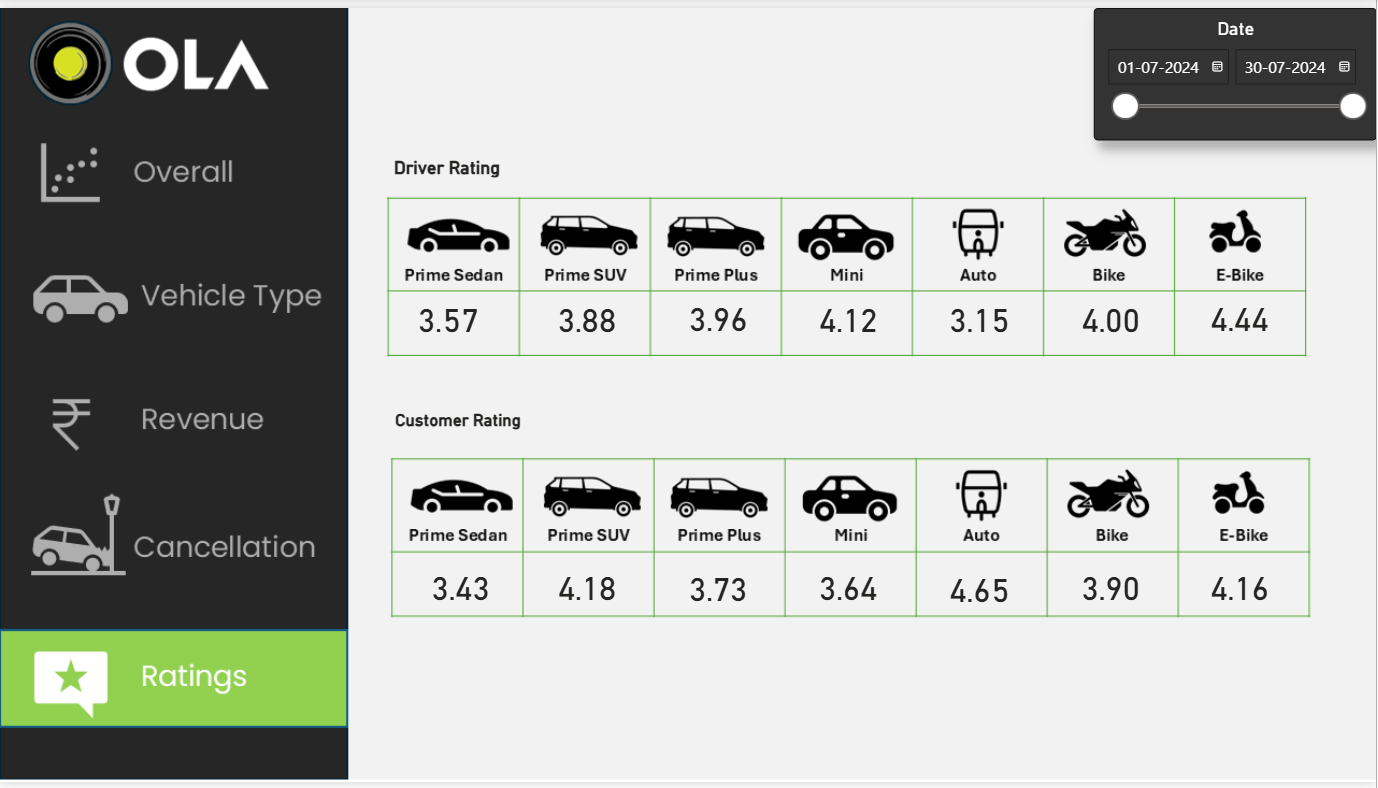

The page's visual inventory and layout, read from the dashboard file:
{"tool":"powerbi","page":{"name":"Rating","canvas":[1280,720],"ordinal":4},"visuals":[{"type":"actionButton","box":[0,104.3,320.2,92],"z":0},{"type":"actionButton","box":[0,446.6,320.2,92],"z":1000},{"type":"actionButton","box":[0,219.6,320.2,92],"z":2000},{"type":"actionButton","box":[0,339.9,320.2,92],"z":3000},{"type":"card","fields":{"Values":["Avg(Bookings-20000-Rows.Driver_Ratings)"]},"box":[361.7,266.7,111.1,45.7],"z":4000},{"type":"card","fields":{"Values":["Avg(Bookings-20000-Rows.Driver_Ratings)"]},"box":[490.1,266.7,111.1,45.7],"z":5000},{"type":"card","fields":{"Values":["Avg(Bookings-20000-Rows.Driver_Ratings)"]},"box":[612.3,265.4,111.1,45.7],"z":6000},{"type":"card","fields":{"Values":["Avg(Bookings-20000-Rows.Driver_Ratings)"]},"box":[733.3,266.7,111.1,45.7],"z":7000},{"type":"card","fields":{"Values":["Avg(Bookings-20000-Rows.Driver_Ratings)"]},"box":[855.6,266.7,111.1,45.7],"z":8000},{"type":"card","fields":{"Values":["Avg(Bookings-20000-Rows.Driver_Ratings)"]},"box":[977.8,266.7,111.1,45.7],"z":9000},{"type":"card","fields":{"Values":["Avg(Bookings-20000-Rows.Driver_Ratings)"]},"box":[1097.5,265.4,111.1,45.7],"z":10000},{"type":"textbox","title":"Driver Rating","box":[361.7,138.3,129.6,24.7],"z":11000},{"type":"textbox","title":"Customer Rating","box":[363,374.1,129.6,24.7],"z":12000},{"type":"card","fields":{"Values":["Avg(Bookings-20000-Rows.Customer_Rating)"]},"box":[372.8,514.8,111.1,45.7],"z":13000},{"type":"card","fields":{"Values":["Avg(Bookings-20000-Rows.Customer_Rating)"]},"box":[490.1,514.8,111.1,45.7],"z":14000},{"type":"card","fields":{"Values":["Avg(Bookings-20000-Rows.Customer_Rating)"]},"box":[612.3,516,111.1,45.7],"z":15000},{"type":"card","fields":{"Values":["Avg(Bookings-20000-Rows.Customer_Rating)"]},"box":[733.3,514.8,111.1,45.7],"z":16000},{"type":"card","fields":{"Values":["Avg(Bookings-20000-Rows.Customer_Rating)"]},"box":[855.6,517.3,111.1,45.7],"z":17000},{"type":"card","fields":{"Values":["Avg(Bookings-20000-Rows.Customer_Rating)"]},"box":[977.8,514.8,111.1,45.7],"z":18000},{"type":"card","fields":{"Values":["Avg(Bookings-20000-Rows.Customer_Rating)"]},"box":[1097.5,514.8,111.1,45.7],"z":19000},{"type":"slicer","title":"Date","fields":{"Values":["Bookings-20000-Rows.Date"]},"box":[1017.3,0,263,123.5],"z":20000}]}

Visuals, with their boxes in screenshot pixels (x1, y1, x2, y2), scaled from the page's 1280x720 canvas onto the 1378x788 screenshot:
actionButton: [0, 114, 345, 215]
actionButton: [0, 489, 345, 589]
actionButton: [0, 240, 345, 341]
actionButton: [0, 372, 345, 473]
card - Avg(Bookings-20000-Rows.Driver_Ratings): [389, 292, 509, 342]
card - Avg(Bookings-20000-Rows.Driver_Ratings): [528, 292, 647, 342]
card - Avg(Bookings-20000-Rows.Driver_Ratings): [659, 290, 779, 340]
card - Avg(Bookings-20000-Rows.Driver_Ratings): [789, 292, 909, 342]
card - Avg(Bookings-20000-Rows.Driver_Ratings): [921, 292, 1041, 342]
card - Avg(Bookings-20000-Rows.Driver_Ratings): [1053, 292, 1172, 342]
card - Avg(Bookings-20000-Rows.Driver_Ratings): [1182, 290, 1301, 340]
"Driver Rating" textbox: [389, 151, 529, 178]
"Customer Rating" textbox: [391, 409, 530, 436]
card - Avg(Bookings-20000-Rows.Customer_Rating): [401, 563, 521, 613]
card - Avg(Bookings-20000-Rows.Customer_Rating): [528, 563, 647, 613]
card - Avg(Bookings-20000-Rows.Customer_Rating): [659, 565, 779, 615]
card - Avg(Bookings-20000-Rows.Customer_Rating): [789, 563, 909, 613]
card - Avg(Bookings-20000-Rows.Customer_Rating): [921, 566, 1041, 616]
card - Avg(Bookings-20000-Rows.Customer_Rating): [1053, 563, 1172, 613]
card - Avg(Bookings-20000-Rows.Customer_Rating): [1182, 563, 1301, 613]
"Date" slicer: [1095, 0, 1377, 135]
